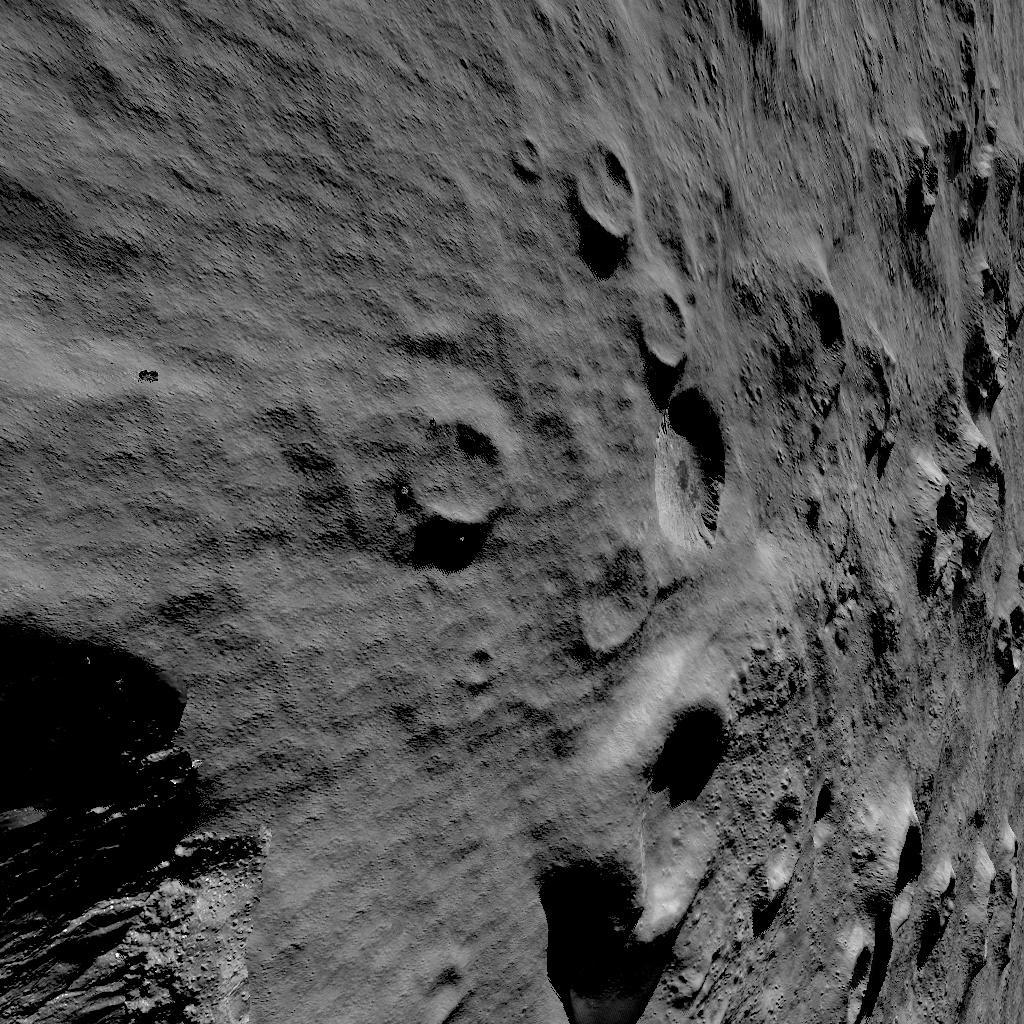Boulders: (0, 598, 216, 1024)
Crater: (538, 664, 733, 1024), (753, 765, 1024, 1024), (571, 142, 728, 548), (914, 298, 1018, 642), (774, 282, 892, 480), (898, 112, 1020, 258), (391, 412, 513, 538), (731, 0, 1003, 53)
Plan surface: (0, 0, 558, 395), (238, 565, 526, 1024), (0, 410, 341, 553)
